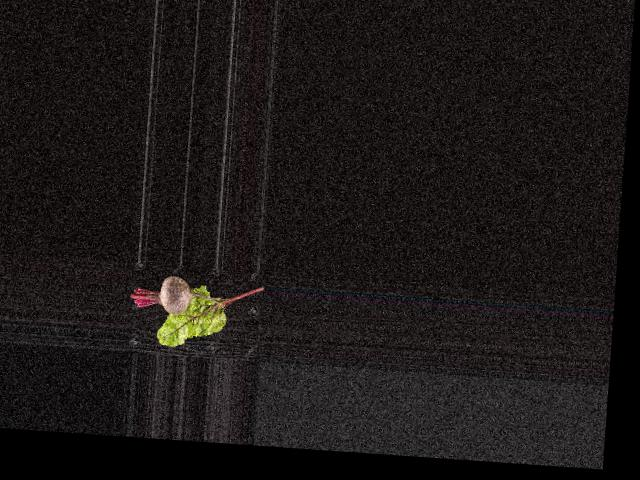beet: (128, 273, 227, 317)
